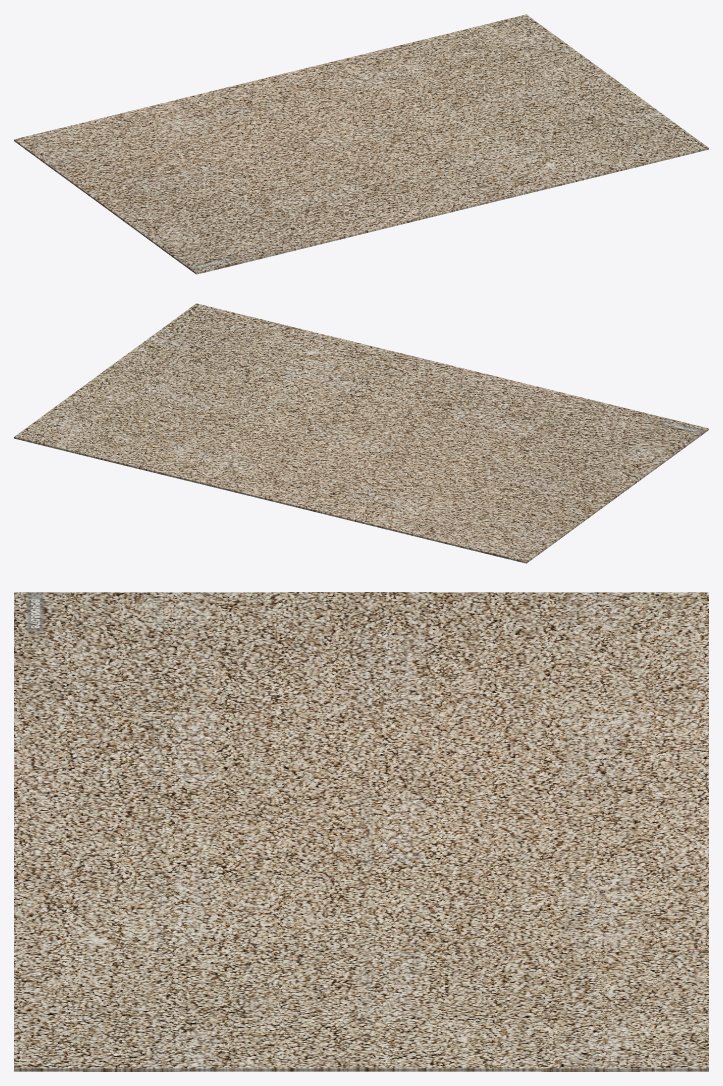
File: carpet2.glb
3 views of the same model, one above another, from view 1: azimuth 30°, elevation 25°; view 2: azimuth 150°, elevation 25°; view 3: azimuth 270°, elevation 25° (orthographic). The views are drawn at different scales.
Visible parts, largest first — view 1: carpet2; view 2: carpet2; view 3: carpet2.
Part boxes in pixels (<box>): carpet2: <box>14,14,708,274</box>; carpet2: <box>14,303,708,563</box>; carpet2: <box>14,592,708,1071</box>.
Size of the model in its own units: 1.56 by 0.006 by 0.9622.
Materials: 1 (1 with a texture image).
